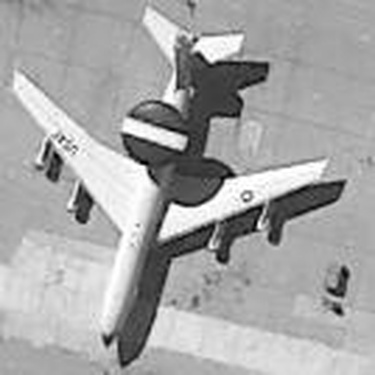airplane: (3, 3, 344, 345)
